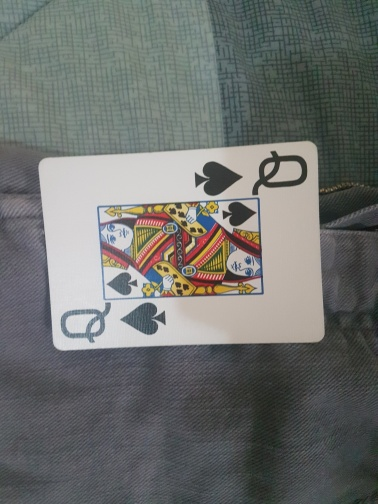queen: (37, 143, 324, 353)
